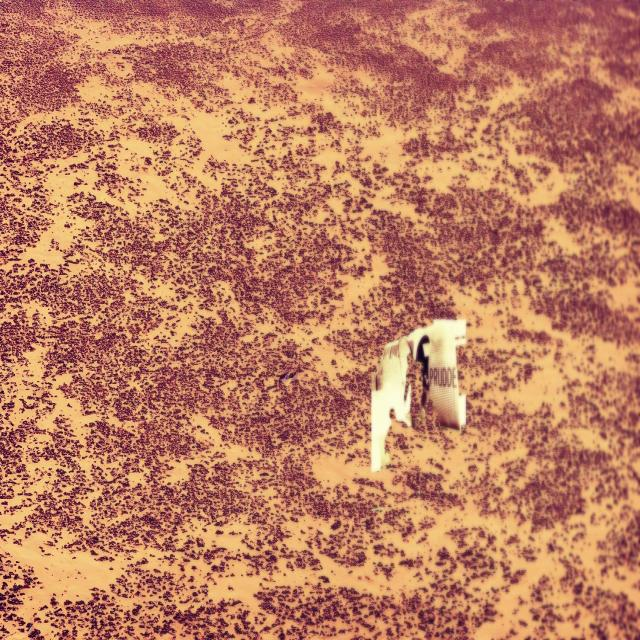airplane: (370, 317, 467, 473)
